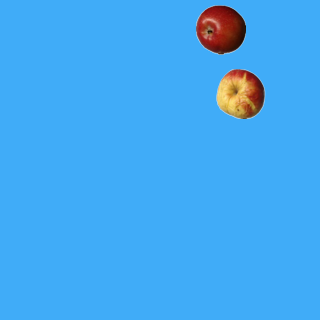Apple Braeburn: (195, 4, 245, 54)
Apple Red Yellow 1: (215, 68, 265, 118)
